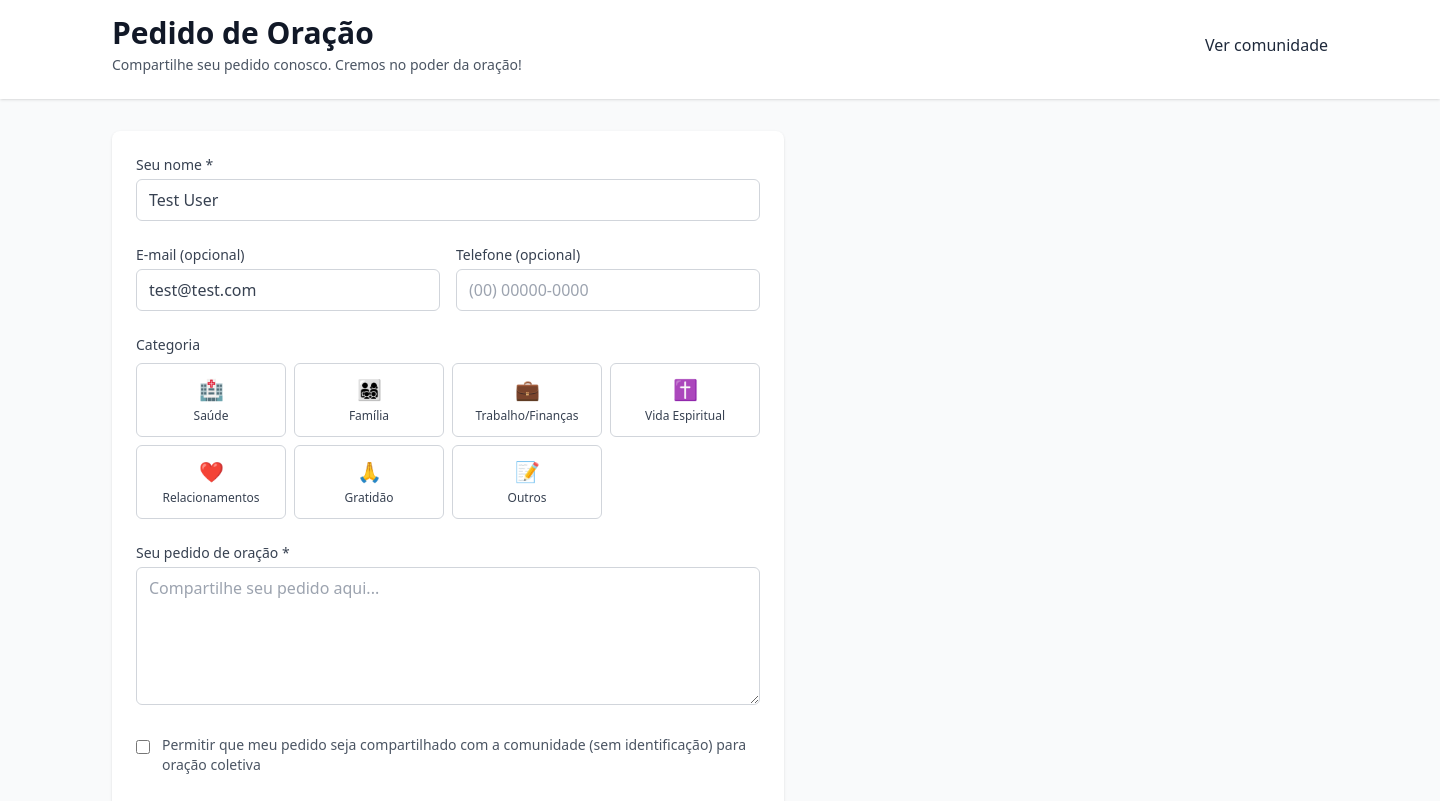
Test: PrayerPage › Form Validation › should show error when submitting with only name
Replace the text in the field with placeholder "Como podemos te chamar?" below "Seu nome *" with "João Silva" at (448, 200), box left=136, top=179, right=760, bottom=221
(page scrolled)
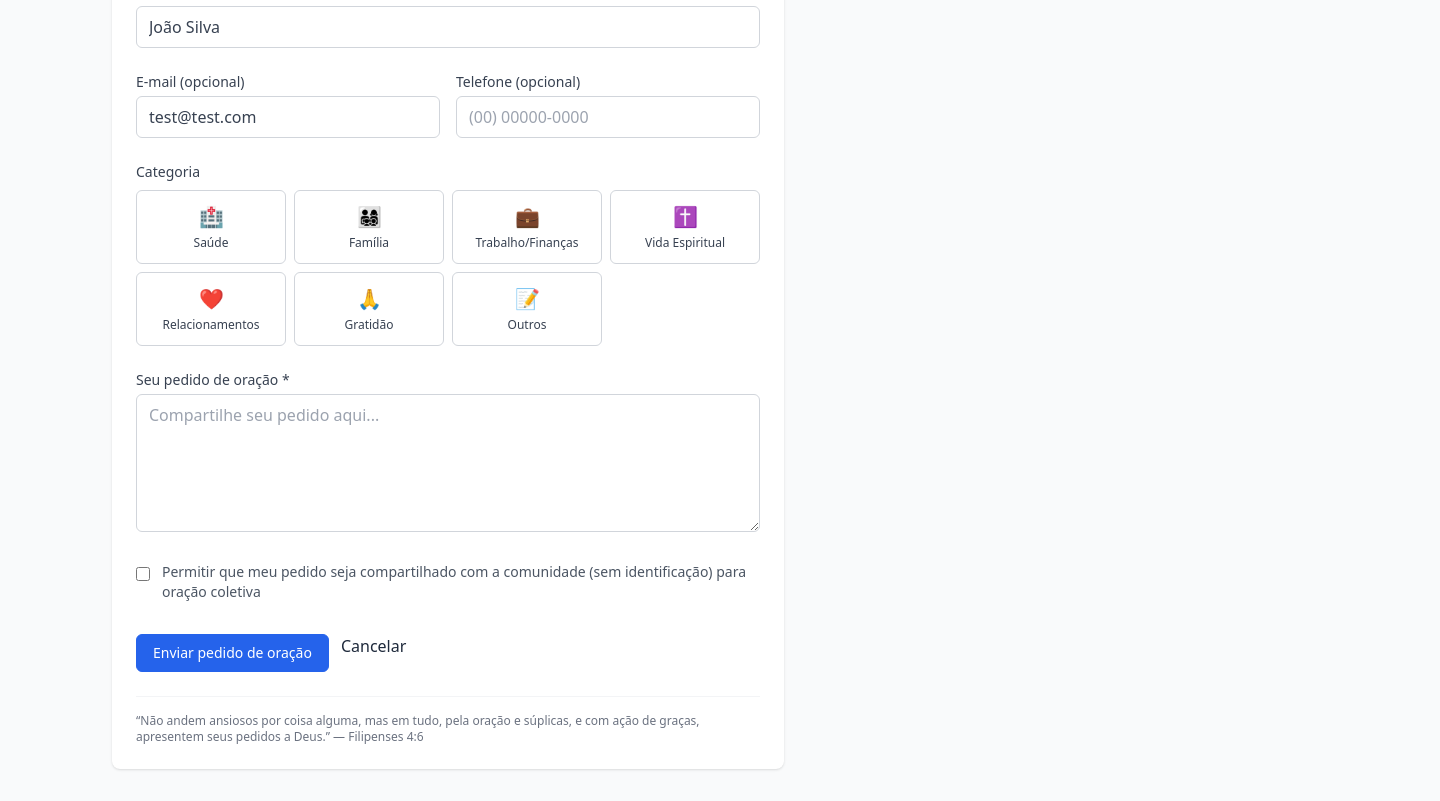
Click the button "Enviar pedido de oração" at (232, 653), box left=136, top=634, right=329, bottom=672
(page scrolled)
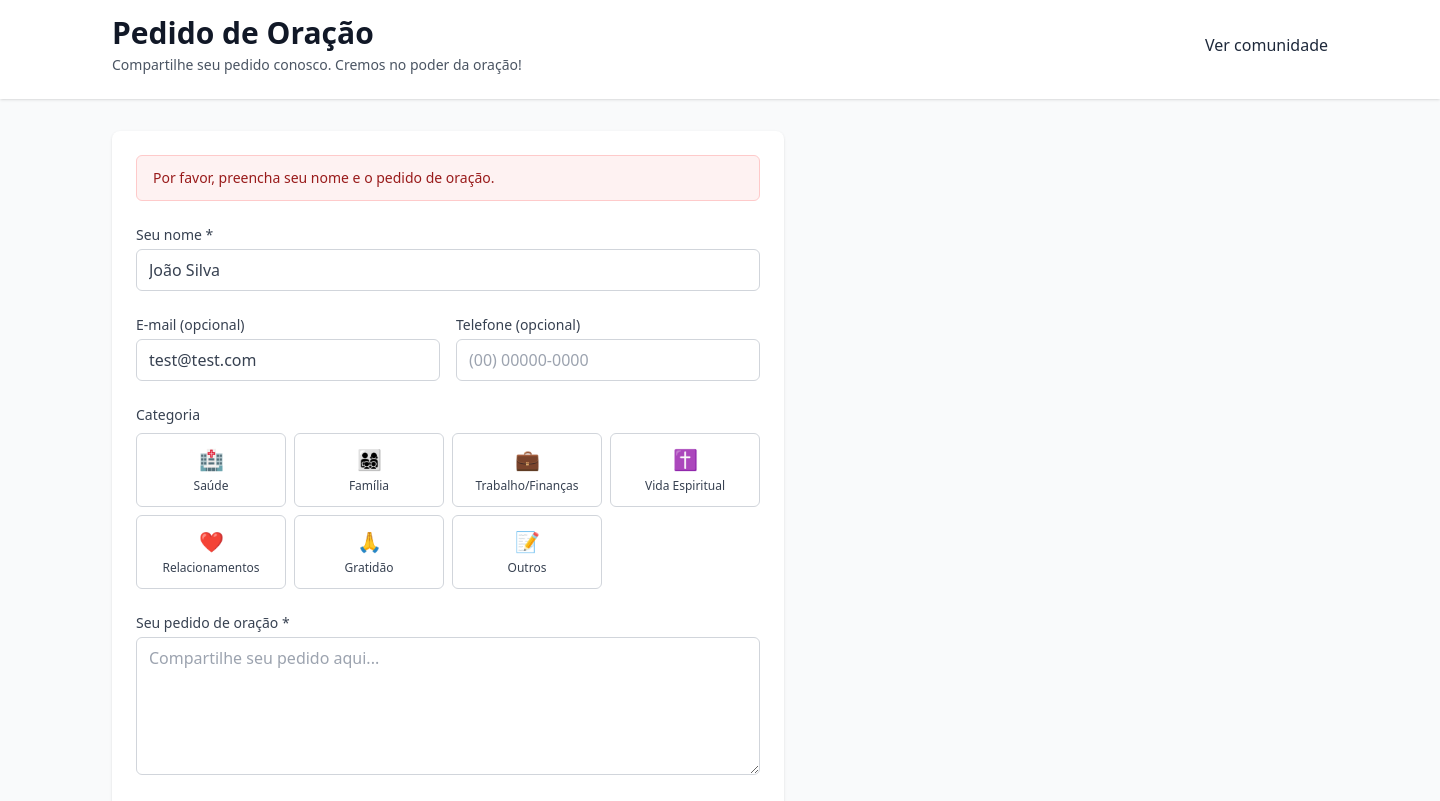
Now the text "Por favor, preencha seu nome e o pedido de oração." is shown, box left=136, top=155, right=760, bottom=201
